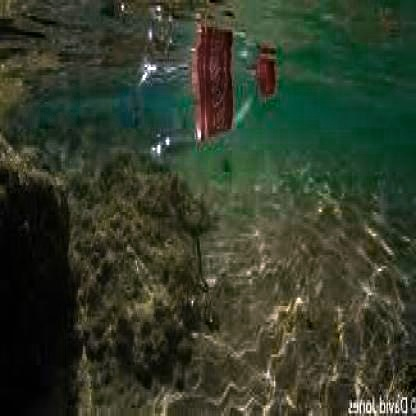pbottle: (119, 21, 280, 145)
